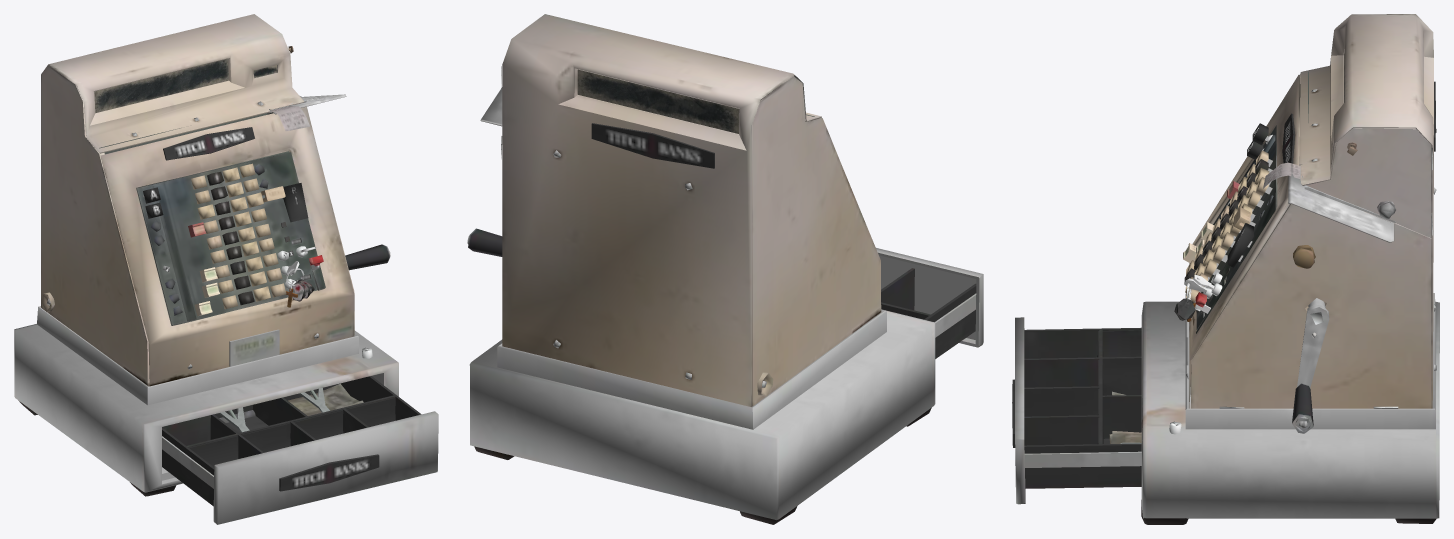
The model's file is CashRegister_01.gltf.
The picture shows the model from 3 angles, left to right: view 1: azimuth 30°, elevation 25°; view 2: azimuth 150°, elevation 25°; view 3: azimuth 270°, elevation 25°; orthographic projection. The views are drawn at different scales.
Parts seen in each view (by area): view 1: CashRegister_01_body, CashRegister_011_drawer; view 2: CashRegister_01_body, CashRegister_011_drawer; view 3: CashRegister_01_body, CashRegister_011_drawer.
Part boxes in pixels (x1,y1,x2,y2): CashRegister_01_body: [14, 14, 398, 496]; CashRegister_011_drawer: [162, 376, 438, 524]; CashRegister_01_body: [467, 14, 935, 524]; CashRegister_011_drawer: [876, 248, 983, 358]; CashRegister_01_body: [1141, 14, 1439, 524]; CashRegister_011_drawer: [1012, 317, 1141, 504].
Bounding box in the file's own units: 0.5984 × 0.6197 × 0.6227.
Materials: 2 (2 with a texture image).
